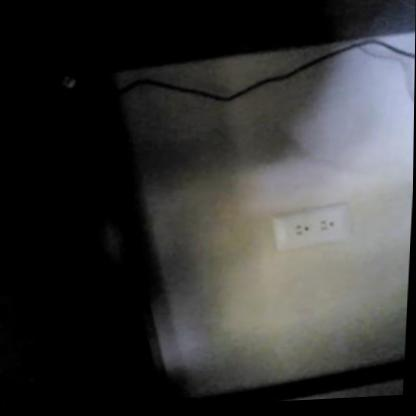OUTLET: (271, 202, 356, 249)
